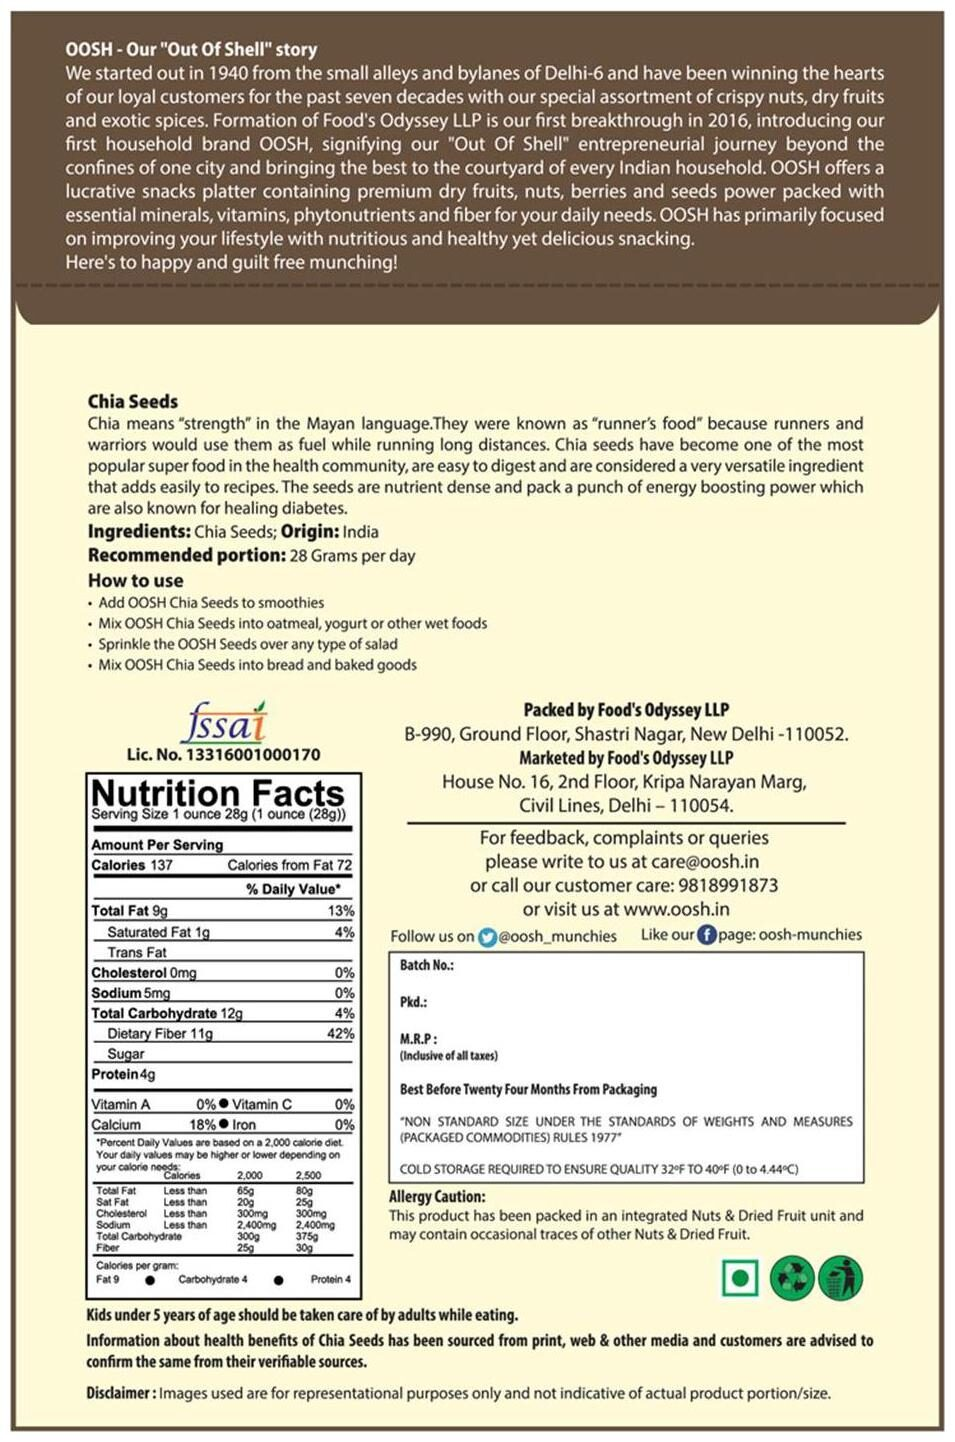fssai: (177, 700, 273, 743)
